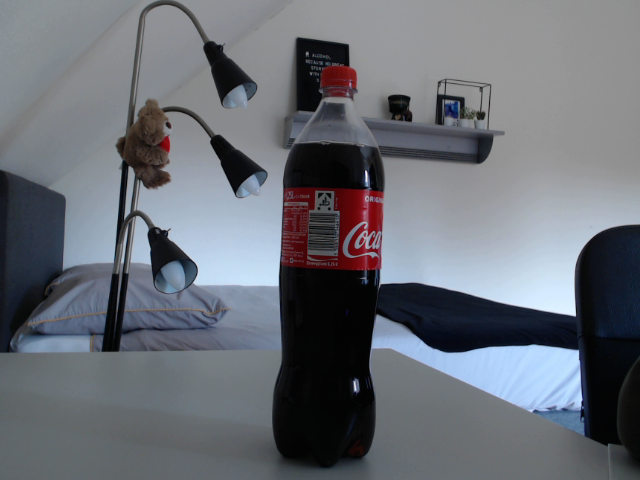bottle: (272, 66, 385, 469)
